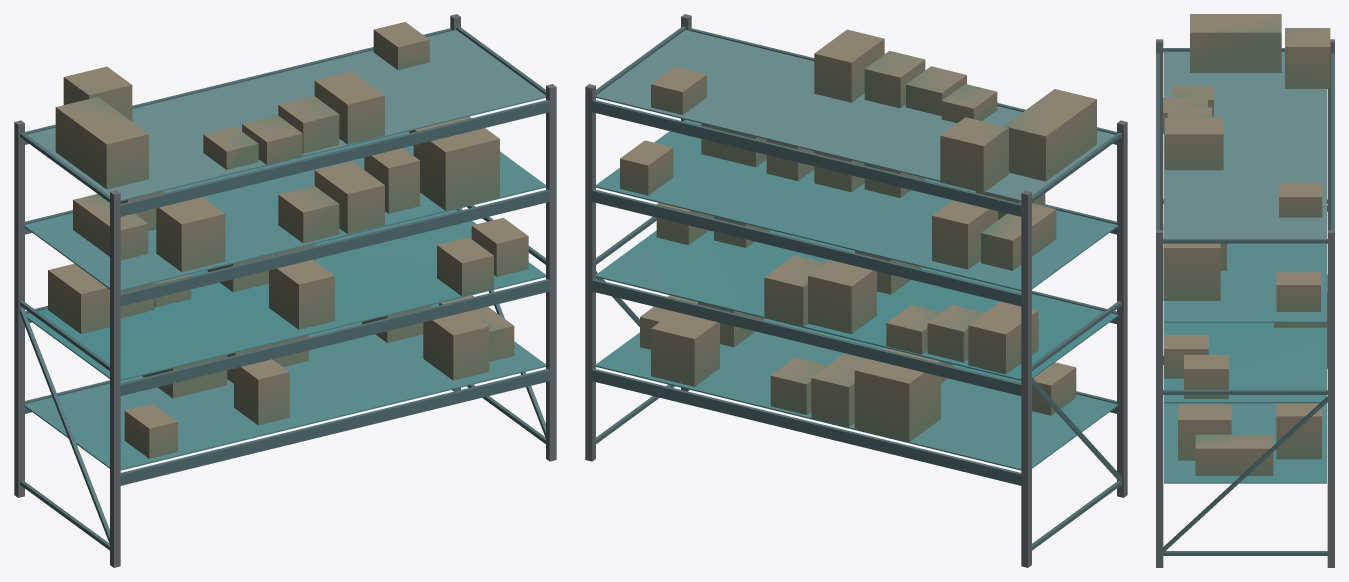
File: simready-rack_composition_l08.glb
3 renders of one model, left to right at view 1: azimuth 30°, elevation 25°; view 2: azimuth 150°, elevation 25°; view 3: azimuth 270°, elevation 25°, orthographic. The views are drawn at different scales.
Visible parts, largest first — view 1: deck.003, deck.001, deck, carton, deck.002, carton.017, long_rail.007, long_rail.001, long_rail.005, long_rail.003, carton.009, carton.013 (+23 smaller); view 2: deck.003, deck.002, carton, deck.001, deck, carton.017, long_rail.008, long_rail.002, long_rail.006, long_rail.004, carton.018, carton.007 (+25 smaller); view 3: deck.003, deck.001, deck.002, carton, carton.017, deck, carton.009, carton.022, carton.018, upright.002, upright.004, carton.016 (+15 smaller).
Part boxes in pixels (x1,y1,x2,y2): deck.003: (26,30,545,201); deck.001: (26,209,545,380); deck: (23,303,545,470); carton: (124,295,514,458); deck.002: (23,131,545,290); carton.017: (55,97,148,189); long_rail.007: (120,99,549,216); long_rail.001: (120,368,549,485); long_rail.005: (120,189,549,306); long_rail.003: (120,279,549,395); carton.009: (413,116,499,210); carton.013: (156,197,225,271); deck.003: (596,30,1115,201); deck.002: (596,119,1118,290); carton: (640,295,1076,442); deck.001: (596,216,1118,380); deck: (596,318,1118,470); carton.017: (1004,89,1096,181); long_rail.008: (592,99,1021,216); long_rail.002: (592,368,1021,485); long_rail.006: (592,189,1021,306); long_rail.004: (592,279,1021,395); carton.018: (940,117,1008,192); carton.007: (808,260,876,334); deck.003: (1164,51,1326,238); deck.001: (1164,322,1326,403); deck.002: (1164,243,1326,322); carton: (1178,327,1327,475); carton.017: (1190,14,1281,72); deck: (1164,403,1326,483); carton.009: (1163,224,1220,300); carton.022: (1164,118,1223,170); carton.018: (1285,28,1330,88); upright.002: (1156,230,1163,567); upright.004: (1327,230,1334,567); carton.016: (1276,272,1320,311).
Bounding box in the file's own units: 3.1 × 2.73 × 1.21.
